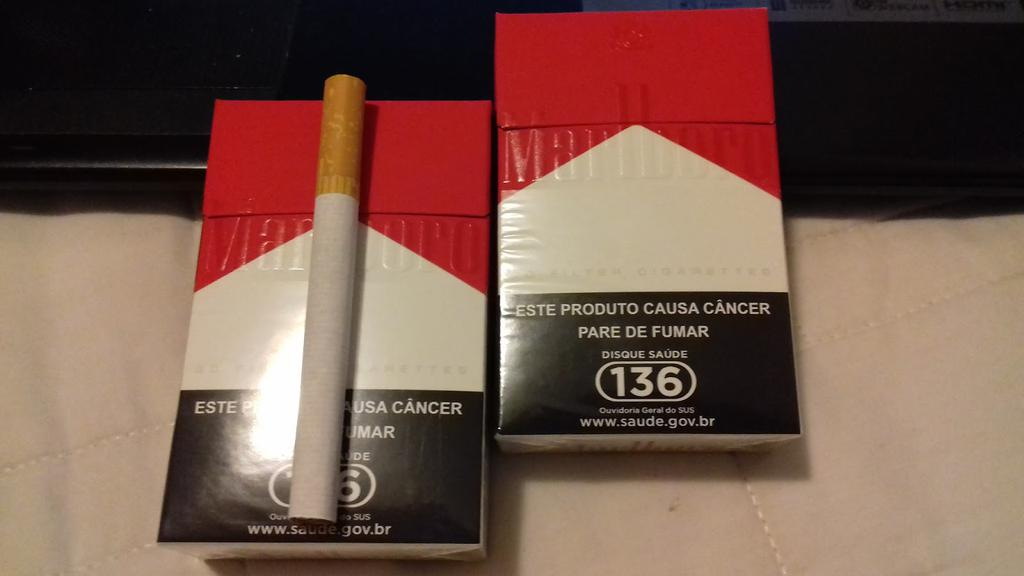marlboro_red: (196, 103, 487, 538), (498, 11, 791, 437)
